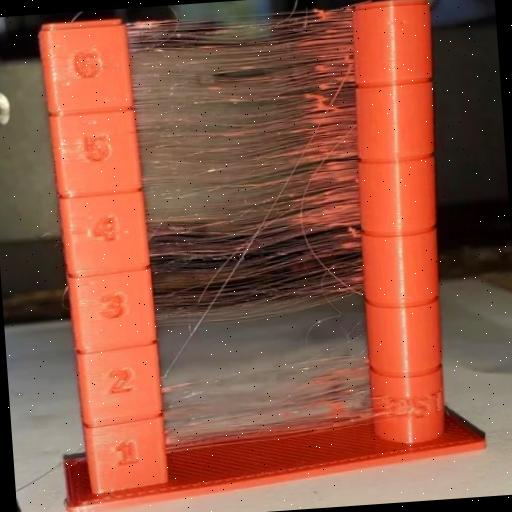stringing: (118, 10, 378, 314), (155, 356, 385, 459)
